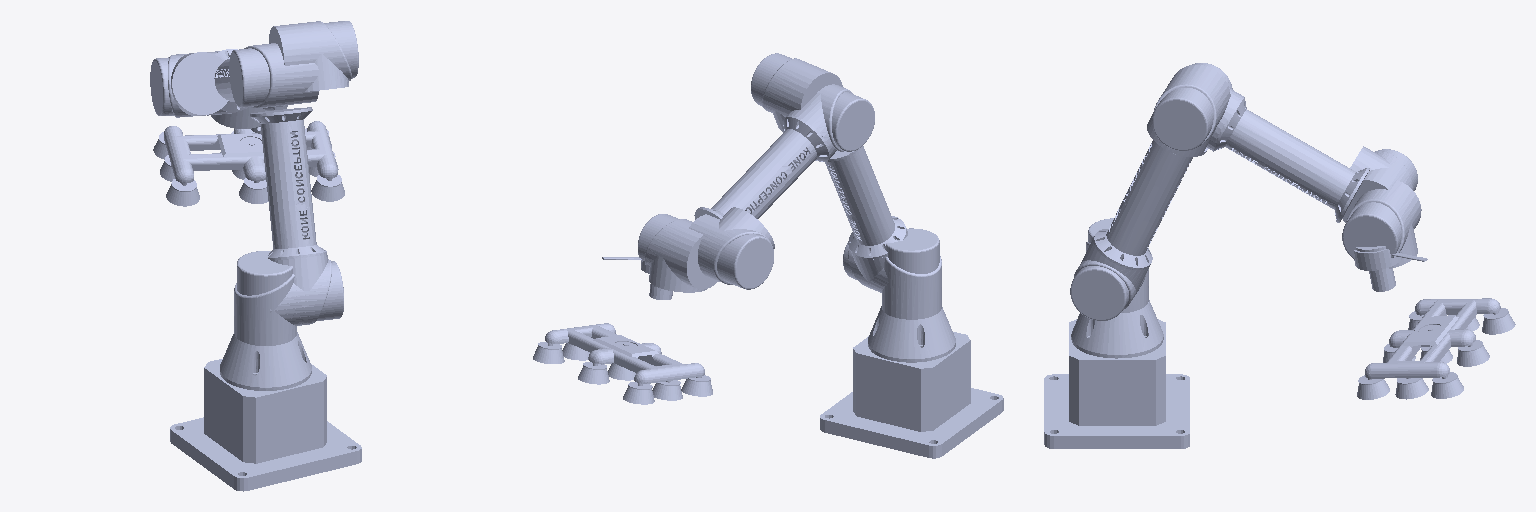
robot.urdf — bras_robot_kone:
<?xml version="1.0" encoding="utf-8"?>
<!-- This URDF was automatically created by SolidWorks to URDF Exporter! Originally created by [author] ([email redacted]) 
     Commit Version: 1.6.0-4-g7f85cfe  Build Version: 1.6.7995.38578
     For more information, please see http://wiki.ros.org/sw_urdf_exporter -->
<robot
  name="bras_robot_kone">
  <link
    name="base_link">
    <inertial>
      <origin
        xyz="-0.0439390916743305 -0.00824743509828847 0.0750001368355614"
        rpy="0 0 0" />
      <mass
        value="1.15616260183108" />
      <inertia
        ixx="0.00201252660466385"
        ixy="-5.8438931416233E-11"
        ixz="1.15648471368964E-09"
        iyy="0.00254071599730866"
        iyz="-9.25832832736018E-10"
        izz="0.00201252366056206" />
    </inertial>
    <visual>
      <origin
        xyz="0 0 0"
        rpy="0 0 0" />
      <geometry>
        <mesh
          filename="package://bras_robot_kone/meshes/base_link.STL" />
      </geometry>
      <material
        name="">
        <color
          rgba="0.792156862745098 0.819607843137255 0.933333333333333 1" />
      </material>
    </visual>
    <collision>
      <origin
        xyz="0 0 0"
        rpy="0 0 0" />
      <geometry>
        <mesh
          filename="package://bras_robot_kone/meshes/base_link.STL" />
      </geometry>
    </collision>
  </link>
  <link
    name="link_1">
    <inertial>
      <origin
        xyz="9.5659E-09 0.039149 0.0038439"
        rpy="0 0 0" />
      <mass
        value="0.28935" />
      <inertia
        ixx="0.00023422"
        ixy="-1.0009E-10"
        ixz="2.0647E-11"
        iyy="0.00017347"
        iyz="-3.0518E-06"
        izz="0.00021948" />
    </inertial>
    <visual>
      <origin
        xyz="0 0 0"
        rpy="0 0 0" />
      <geometry>
        <mesh
          filename="package://bras_robot_kone/meshes/link_1.STL" />
      </geometry>
      <material
        name="">
        <color
          rgba="0.79216 0.81961 0.93333 1" />
      </material>
    </visual>
    <collision>
      <origin
        xyz="0 0 0"
        rpy="0 0 0" />
      <geometry>
        <mesh
          filename="package://bras_robot_kone/meshes/link_1.STL" />
      </geometry>
    </collision>
  </link>
  <joint
    name="joint0"
    type="revolute">
    <origin
      xyz="-0.043939 -0.075 0.075658"
      rpy="1.5708 0 1.3043" />
    <parent
      link="base_link" />
    <child
      link="link_1" />
    <axis
      xyz="0 1 0" />
    <limit
      lower="-1.57"
      upper="1.57"
      effort="10"
      velocity="100" />
  </joint>
  <link
    name="link_2">
    <inertial>
      <origin
        xyz="8.34342925870035E-05 0.0769787595950562 0.0538201340542464"
        rpy="0 0 0" />
      <mass
        value="0.531525792797543" />
      <inertia
        ixx="0.000822412462538042"
        ixy="1.39247444822011E-06"
        ixz="1.55000044635215E-07"
        iyy="0.000760729569554385"
        iyz="-3.26751554577163E-06"
        izz="0.000292449808175617" />
    </inertial>
    <visual>
      <origin
        xyz="0 0 0"
        rpy="0 0 0" />
      <geometry>
        <mesh
          filename="package://bras_robot_kone/meshes/link_2.STL" />
      </geometry>
      <material
        name="">
        <color
          rgba="0.792156862745098 0.819607843137255 0.933333333333333 1" />
      </material>
    </visual>
    <collision>
      <origin
        xyz="0 0 0"
        rpy="0 0 0" />
      <geometry>
        <mesh
          filename="package://bras_robot_kone/meshes/link_2.STL" />
      </geometry>
    </collision>
  </link>
  <joint
    name="joint1"
    type="revolute">
    <origin
      xyz="0 0.04 -5.8078E-05"
      rpy="1.5708 0 2.7264" />
    <parent
      link="link_1" />
    <child
      link="link_2" />
    <axis
      xyz="0 1 0" />
    <limit
      lower="-1.57"
      upper="1.57"
      effort="10"
      velocity="100" />
  </joint>
  <link
    name="link_3">
    <inertial>
      <origin
        xyz="-2.89029345595937E-08 -0.000850596578764497 -0.0247256137255674"
        rpy="0 0 0" />
      <mass
        value="0.289351762040261" />
      <inertia
        ixx="0.000234216447081535"
        ixy="-5.98058295798293E-11"
        ixz="1.91233596903565E-10"
        iyy="0.000173473233080135"
        iyz="-3.05181286103565E-06"
        izz="0.000219481360816377" />
    </inertial>
    <visual>
      <origin
        xyz="0 0 0"
        rpy="0 0 0" />
      <geometry>
        <mesh
          filename="package://bras_robot_kone/meshes/link_3.STL" />
      </geometry>
      <material
        name="">
        <color
          rgba="0.792156862745098 0.819607843137255 0.933333333333333 1" />
      </material>
    </visual>
    <collision>
      <origin
        xyz="0 0 0"
        rpy="0 0 0" />
      <geometry>
        <mesh
          filename="package://bras_robot_kone/meshes/link_3.STL" />
      </geometry>
    </collision>
  </link>
  <joint
    name="joint2"
    type="revolute">
    <origin
      xyz="0 0.077558 0.19843"
      rpy="3.1416 0 -3.1413" />
    <parent
      link="link_2" />
    <child
      link="link_3" />
    <axis
      xyz="0 0 1" />
    <limit
      lower="-1.57"
      upper="1.57"
      effort="10"
      velocity="100" />
  </joint>
  <link
    name="link_4">
    <inertial>
      <origin
        xyz="-0.00011374804438774 0.0794500615122035 0.0538200978032225"
        rpy="0 0 0" />
      <mass
        value="0.531525635812206" />
      <inertia
        ixx="0.000821556909968414"
        ixy="-1.41818793373474E-06"
        ixz="-2.10686341073608E-07"
        iyy="0.00076158499157125"
        iyz="-3.21304441990138E-06"
        izz="0.00029244979601376" />
    </inertial>
    <visual>
      <origin
        xyz="0 0 0"
        rpy="0 0 0" />
      <geometry>
        <mesh
          filename="package://bras_robot_kone/meshes/link_4.STL" />
      </geometry>
      <material
        name="">
        <color
          rgba="0.792156862745098 0.819607843137255 0.933333333333333 1" />
      </material>
    </visual>
    <collision>
      <origin
        xyz="0 0 0"
        rpy="0 0 0" />
      <geometry>
        <mesh
          filename="package://bras_robot_kone/meshes/link_4.STL" />
      </geometry>
    </collision>
  </link>
  <joint
    name="joint3"
    type="revolute">
    <origin
      xyz="0 0 -0.02857"
      rpy="0 -1.5319 3.1416" />
    <parent
      link="link_3" />
    <child
      link="link_4" />
    <axis
      xyz="0 1 0" />
    <limit
      lower="-1.57"
      upper="1.57"
      effort="10"
      velocity="100" />
  </joint>
  <link
    name="link_5">
    <inertial>
      <origin
        xyz="-4.1059633526519E-08 -0.000850601291387747 -0.0541529386337137"
        rpy="0 0 0" />
      <mass
        value="0.289351749229268" />
      <inertia
        ixx="0.000234216384386858"
        ixy="-4.78890426222438E-11"
        ixz="2.73709200906947E-10"
        iyy="0.000173473229383543"
        iyz="-3.05179274938782E-06"
        izz="0.00021948137519761" />
    </inertial>
    <visual>
      <origin
        xyz="0 0 0"
        rpy="0 0 0" />
      <geometry>
        <mesh
          filename="package://bras_robot_kone/meshes/link_5.STL" />
      </geometry>
      <material
        name="">
        <color
          rgba="0.792156862745098 0.819607843137255 0.933333333333333 1" />
      </material>
    </visual>
    <collision>
      <origin
        xyz="0 0 0"
        rpy="0 0 0" />
      <geometry>
        <mesh
          filename="package://bras_robot_kone/meshes/link_5.STL" />
      </geometry>
    </collision>
  </link>
  <joint
    name="joint4"
    type="revolute">
    <origin
      xyz="0 0.08 0.169"
      rpy="3.1416 0 -3.1077" />
    <parent
      link="link_4" />
    <child
      link="link_5" />
    <axis
      xyz="0 0 1" />
    <limit
      lower="-1.57"
      upper="1.57"
      effort="10"
      velocity="100" />
  </joint>
  <link
    name="link_6">
    <inertial>
      <origin
        xyz="-9.23239243388885E-09 0.0574851727391662 0.00384389168769794"
        rpy="0 0 0" />
      <mass
        value="0.289351691131219" />
      <inertia
        ixx="0.000234216290285249"
        ixy="-7.37676111296456E-11"
        ixz="1.44917021535385E-10"
        iyy="0.000173473229114033"
        iyz="-3.05178713869868E-06"
        izz="0.000219481393743955" />
    </inertial>
    <visual>
      <origin
        xyz="0 0 0"
        rpy="0 0 0" />
      <geometry>
        <mesh
          filename="package://bras_robot_kone/meshes/link_6.STL" />
      </geometry>
      <material
        name="">
        <color
          rgba="0.792156862745098 0.819607843137255 0.933333333333333 1" />
      </material>
    </visual>
    <collision>
      <origin
        xyz="0 0 0"
        rpy="0 0 0" />
      <geometry>
        <mesh
          filename="package://bras_robot_kone/meshes/link_6.STL" />
      </geometry>
    </collision>
  </link>
  <joint
    name="joint5"
    type="revolute">
    <origin
      xyz="0 -0.021664 -0.057997"
      rpy="3.1416 0.93581 0" />
    <parent
      link="link_5" />
    <child
      link="link_6" />
    <axis
      xyz="0 1 0" />
    <limit
      lower="-1.57"
      upper="1.57"
      effort="10"
      velocity="100" />
  </joint>
  <link
    name="link_7">
    <inertial>
      <origin
        xyz="0.000436939179346119 0.0354522271076708 -1.91362098493214E-05"
        rpy="0 0 0" />
      <mass
        value="0.0578450079932328" />
      <inertia
        ixx="1.70796857755802E-05"
        ixy="1.29077723312545E-07"
        ixz="5.19691863842035E-08"
        iyy="1.58193070964861E-05"
        iyz="-7.85937467836642E-09"
        izz="1.82717508213123E-05" />
    </inertial>
    <visual>
      <origin
        xyz="0 0 0"
        rpy="0 0 0" />
      <geometry>
        <mesh
          filename="package://bras_robot_kone/meshes/link_7.STL" />
      </geometry>
      <material
        name="">
        <color
          rgba="0.792156862745098 0.819607843137255 0.933333333333333 1" />
      </material>
    </visual>
    <collision>
      <origin
        xyz="0 0 0"
        rpy="0 0 0" />
      <geometry>
        <mesh
          filename="package://bras_robot_kone/meshes/link_7.STL" />
      </geometry>
    </collision>
  </link>
  <joint
    name="joint6"
    type="revolute">
    <origin
      xyz="0 0.058336 0.019746"
      rpy="1.5708 0 0.43758" />
    <parent
      link="link_6" />
    <child
      link="link_7" />
    <axis
      xyz="0 1 0" />
    <limit
      lower="-1.57"
      upper="1.57"
      effort="10"
      velocity="100" />
  </joint>
  <link
    name="end_effector">
    <inertial>
      <origin
        xyz="-1.798E-05 -0.00029364 0.029821"
        rpy="0 0 0" />
      <mass
        value="0.11609" />
      <inertia
        ixx="5.0618E-05"
        ixy="-2.1286E-07"
        ixz="3.1576E-09"
        iyy="0.00027059"
        iyz="-3.8798E-09"
        izz="0.00031792" />
    </inertial>
    <visual>
      <origin
        xyz="0 0 0"
        rpy="0 0 0" />
      <geometry>
        <mesh
          filename="package://bras_robot_kone/meshes/end_effector.STL" />
      </geometry>
      <material
        name="">
        <color
          rgba="0.79216 0.81961 0.93333 1" />
      </material>
    </visual>
    <collision>
      <origin
        xyz="0 0 0"
        rpy="0 0 0" />
      <geometry>
        <mesh
          filename="package://bras_robot_kone/meshes/end_effector.STL" />
      </geometry>
    </collision>
  </link>
  <joint
    name="end_effector_joint"
    type="revolute">
    <origin
      xyz="0 0.05 0"
      rpy="1.5708 -1.2062 -3.1416" />
    <parent
      link="link_7" />
    <child
      link="end_effector" />
    <axis
      xyz="0 0 1" />
    <limit
      lower="0"
      upper="0"
      effort="0"
      velocity="0" />
  </joint>
</robot>

--- What the picture shows (computed from the rendered views, not written in the file) ---
The picture shows the robot from 3 angles, left to right: view 1: azimuth 30°, elevation 25°; view 2: azimuth 150°, elevation 25°; view 3: azimuth 270°, elevation 25°; orthographic projection.
Robot: bras_robot_kone — 9 links, 8 joints (8 revolute); root link base_link; default pose: all joints at 0.
Visible links, largest first — view 1: base_link, link_2, end_effector, link_4, link_1, link_3, link_5, link_6; view 2: base_link, link_4, end_effector, link_2, link_5, link_1, link_6, link_3; view 3: base_link, link_2, end_effector, link_4, link_3, link_6, link_5, link_7, link_1.
Link boxes in pixels (bbox=[...]): base_link: bbox=[170, 332, 361, 491]; link_2: bbox=[250, 107, 343, 325]; end_effector: bbox=[153, 121, 344, 206]; link_4: bbox=[214, 43, 318, 111]; link_1: bbox=[234, 251, 308, 345]; link_3: bbox=[269, 21, 358, 91]; link_5: bbox=[150, 51, 235, 117]; link_6: bbox=[207, 106, 282, 128]; base_link: bbox=[820, 306, 1003, 458]; link_4: bbox=[694, 84, 874, 219]; end_effector: bbox=[533, 323, 712, 404]; link_2: bbox=[825, 146, 907, 292]; link_5: bbox=[689, 207, 774, 289]; link_1: bbox=[868, 228, 941, 319]; link_6: bbox=[638, 214, 718, 292]; link_3: bbox=[751, 53, 842, 132]; base_link: bbox=[1044, 300, 1189, 448]; link_2: bbox=[1070, 140, 1207, 320]; end_effector: bbox=[1357, 298, 1515, 399]; link_4: bbox=[1192, 63, 1369, 222]; link_3: bbox=[1147, 65, 1230, 156]; link_6: bbox=[1342, 180, 1421, 268]; link_5: bbox=[1342, 146, 1417, 222]; link_7: bbox=[1353, 246, 1427, 291]; link_1: bbox=[1086, 218, 1148, 312].
Bounding box of the posed robot: 0.3475 × 0.4843 × 0.4301 m (x, y, z).
9 mesh visuals loaded from 9 distinct referenced files (9 binary STL).